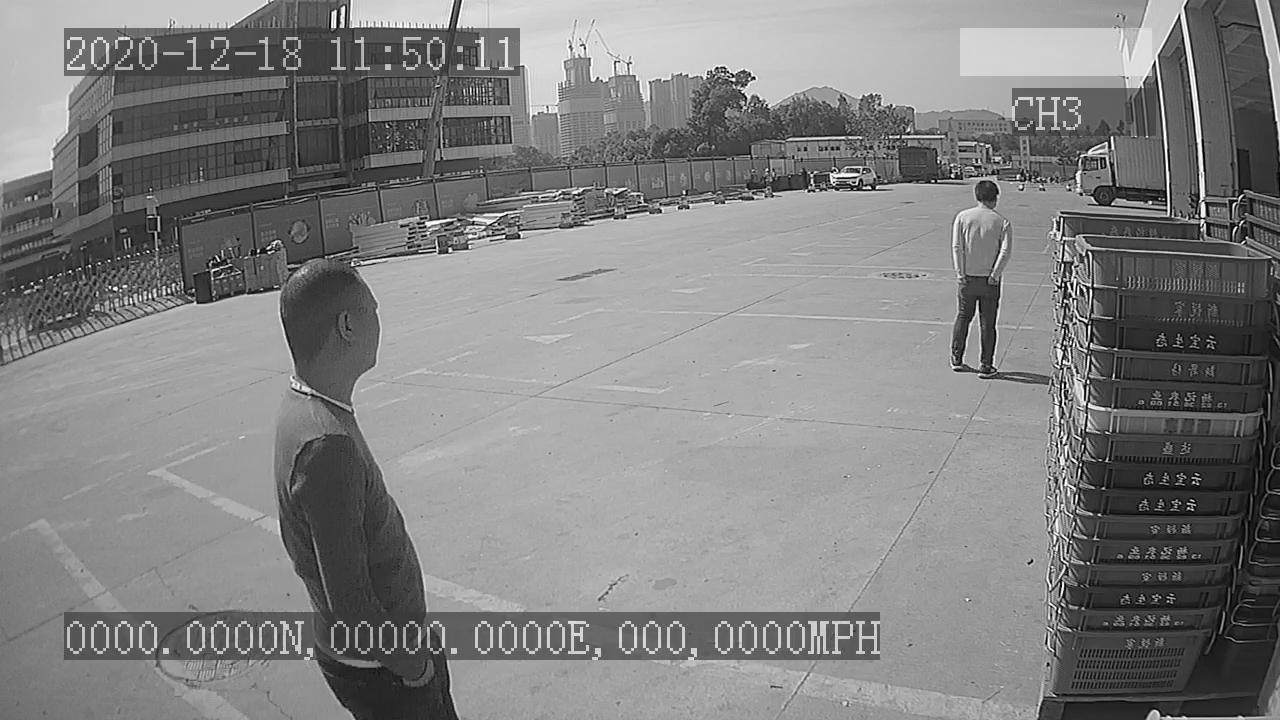person: (942, 176, 1013, 383)
